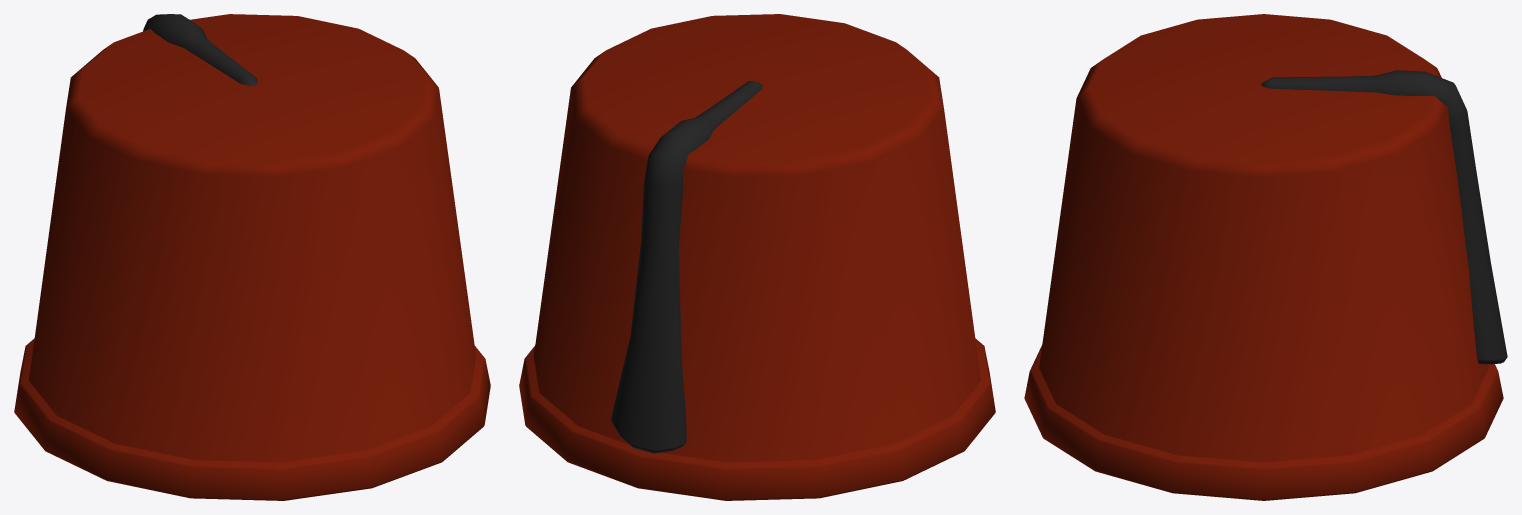
The model's file is Hat 3.fbx.
3 views of the same model, side by side, from view 1: azimuth 30°, elevation 25°; view 2: azimuth 150°, elevation 25°; view 3: azimuth 270°, elevation 25° (orthographic).
Visible parts, largest first — view 1: Fez; view 2: Fez; view 3: Fez.
Part boxes in pixels (<box>): Fez: <box>14,14,490,500</box>; Fez: <box>519,14,995,500</box>; Fez: <box>1024,14,1507,500</box>.
Bounding box in the file's own units: 110 × 83.97 × 111.
